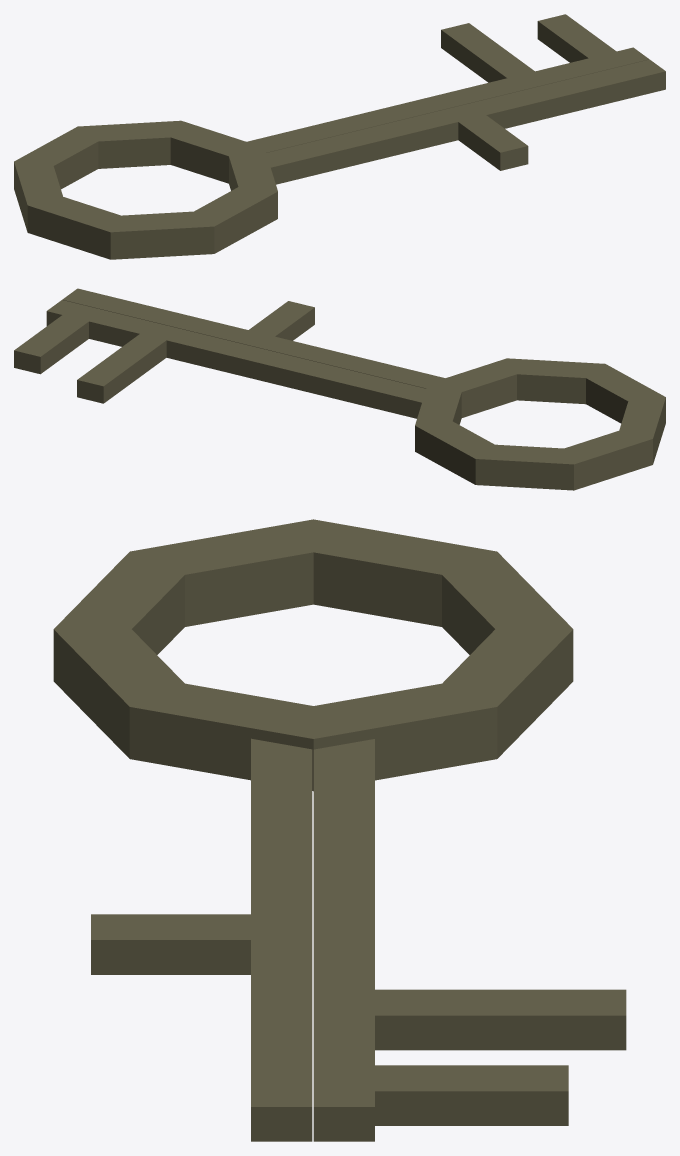
Rendered from keywhole.fbx.
3 renders of one model, top to bottom at view 1: azimuth 30°, elevation 25°; view 2: azimuth 150°, elevation 25°; view 3: azimuth 270°, elevation 25°, orthographic. The views are drawn at different scales.
Parts seen in each view (by area): view 1: keywhole; view 2: keywhole; view 3: keywhole.
Part boxes in pixels (box(x1,y1,x2,y2)): keywhole: box(14, 14, 665, 259); keywhole: box(14, 288, 665, 490); keywhole: box(53, 519, 626, 1141).
Size of the model in its own units: 117 by 4.96 by 49.25.
Materials: 1 (1 with a texture image).
